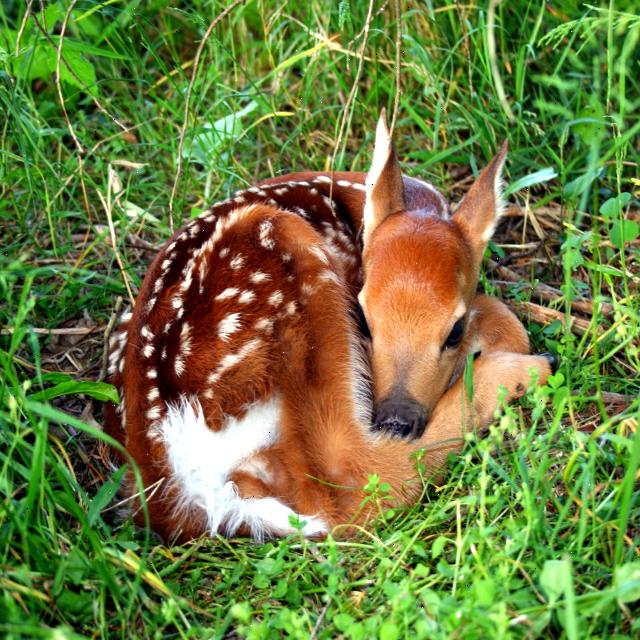deer: (323, 104, 538, 444)
